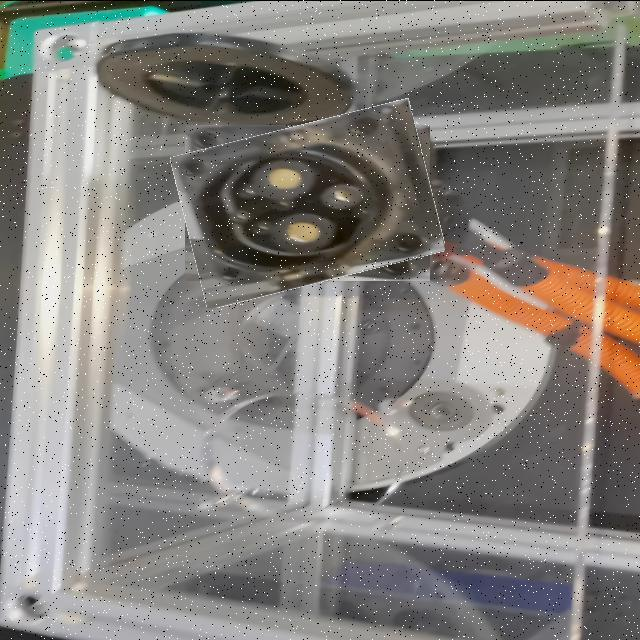GB-T: (134, 130, 446, 283)
